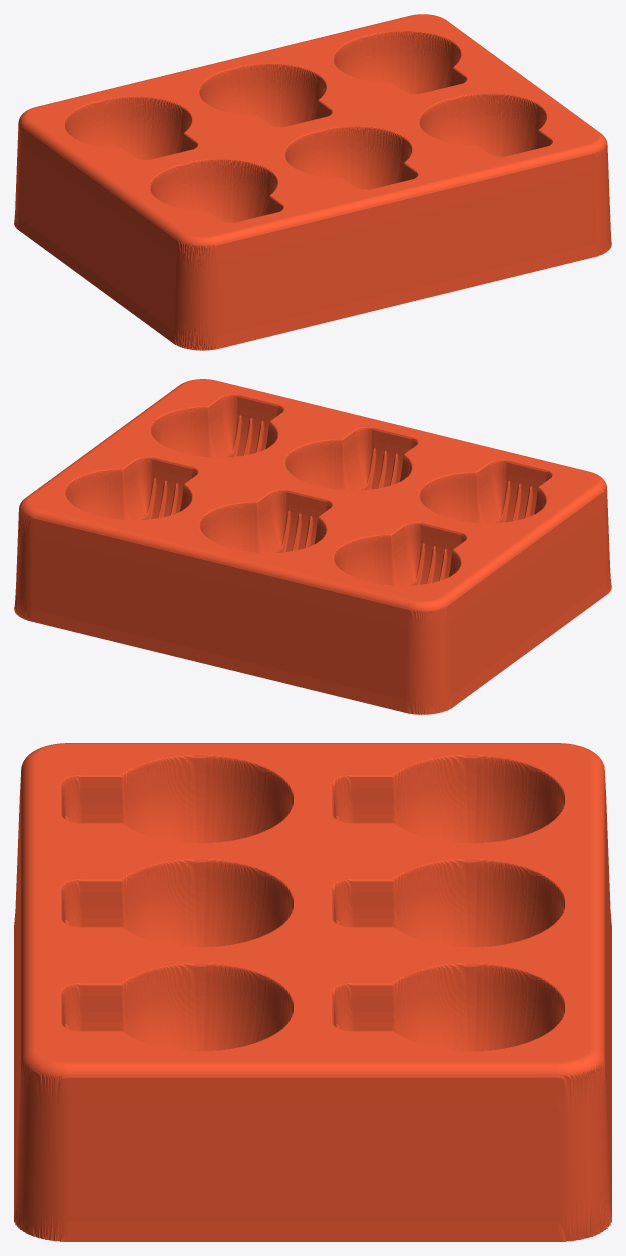
File: mold.glb
The picture shows the model from 3 angles, top to bottom: view 1: azimuth 30°, elevation 25°; view 2: azimuth 150°, elevation 25°; view 3: azimuth 270°, elevation 25°; orthographic projection. The views are drawn at different scales.
Visible parts, largest first — view 1: geometry_0; view 2: geometry_0; view 3: geometry_0.
Part boxes in pixels (bbox=[...]): geometry_0: bbox=[14, 14, 611, 350]; geometry_0: bbox=[14, 379, 611, 714]; geometry_0: bbox=[14, 743, 611, 1241].
Bounding box in the file's own units: 0.1323 × 0.0314 × 0.0996.
